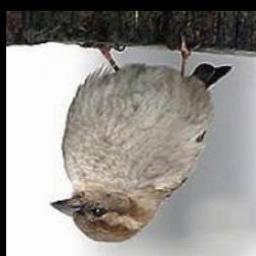Sparrow: (50, 32, 233, 244)
